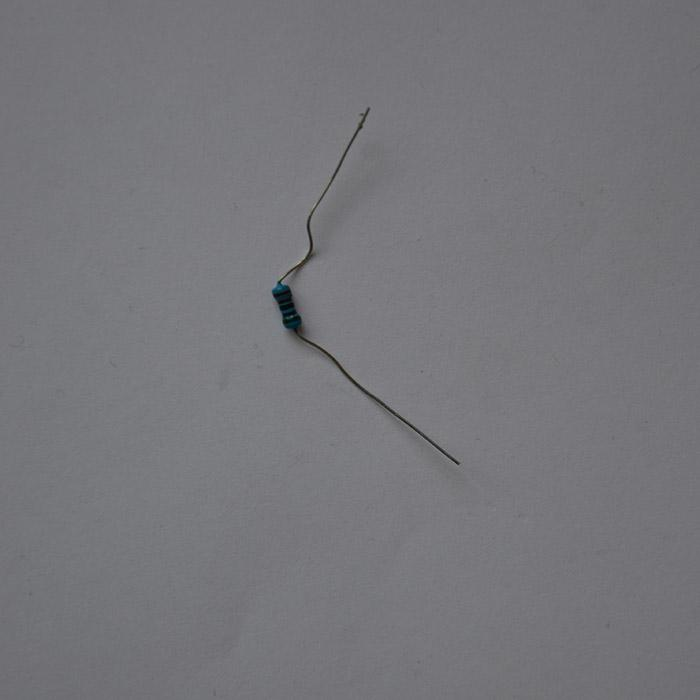resistor: (267, 279, 304, 335)
